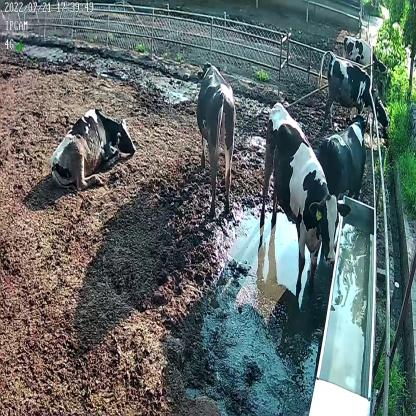cow: (258, 100, 350, 290), (48, 104, 138, 190), (315, 49, 390, 149), (196, 59, 236, 218), (318, 115, 367, 200), (343, 34, 389, 76)
